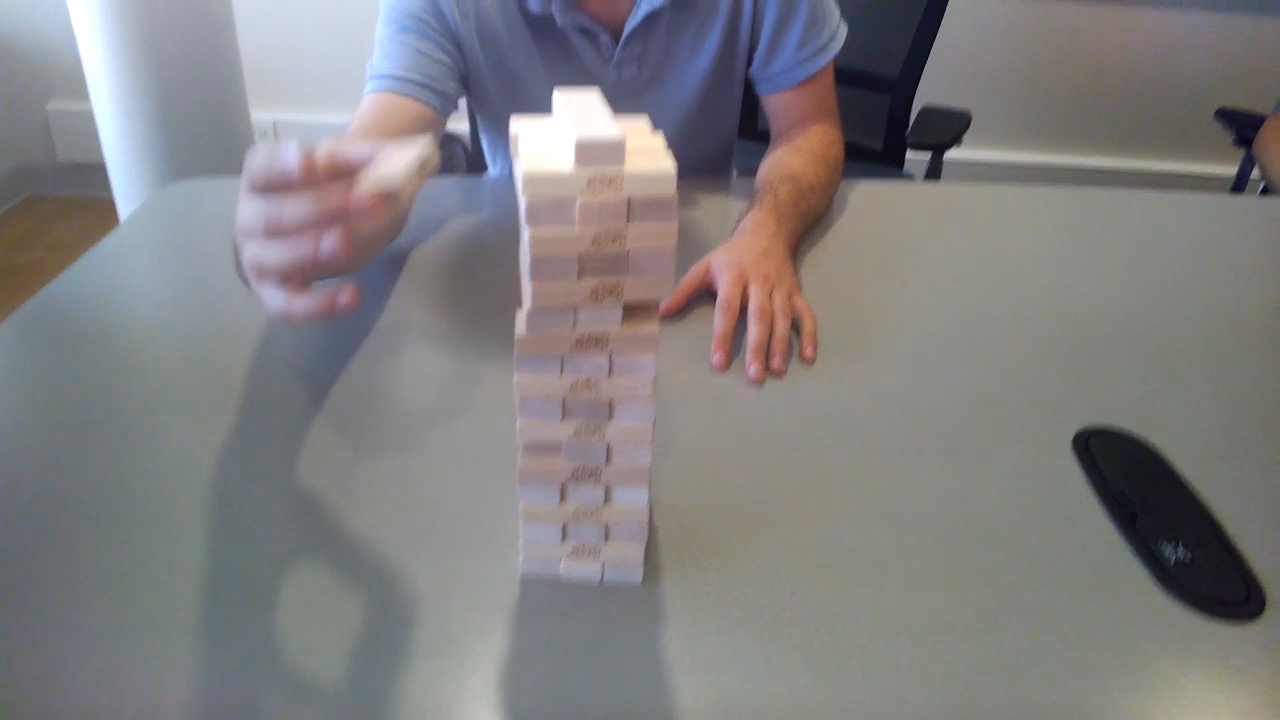hand: (237, 141, 369, 313), (666, 234, 810, 378)
